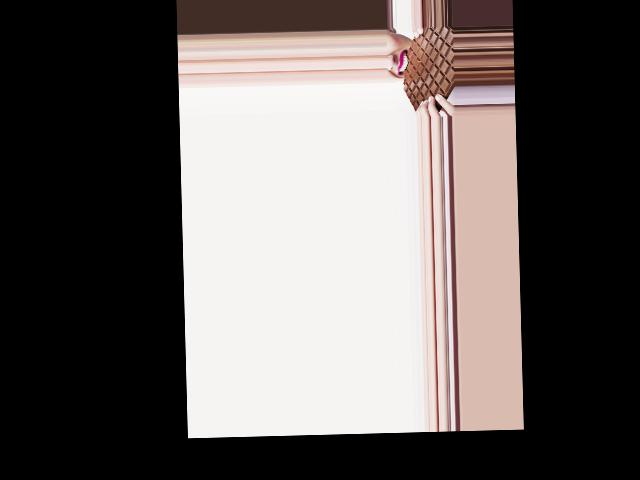chocolate: (399, 27, 455, 118)
